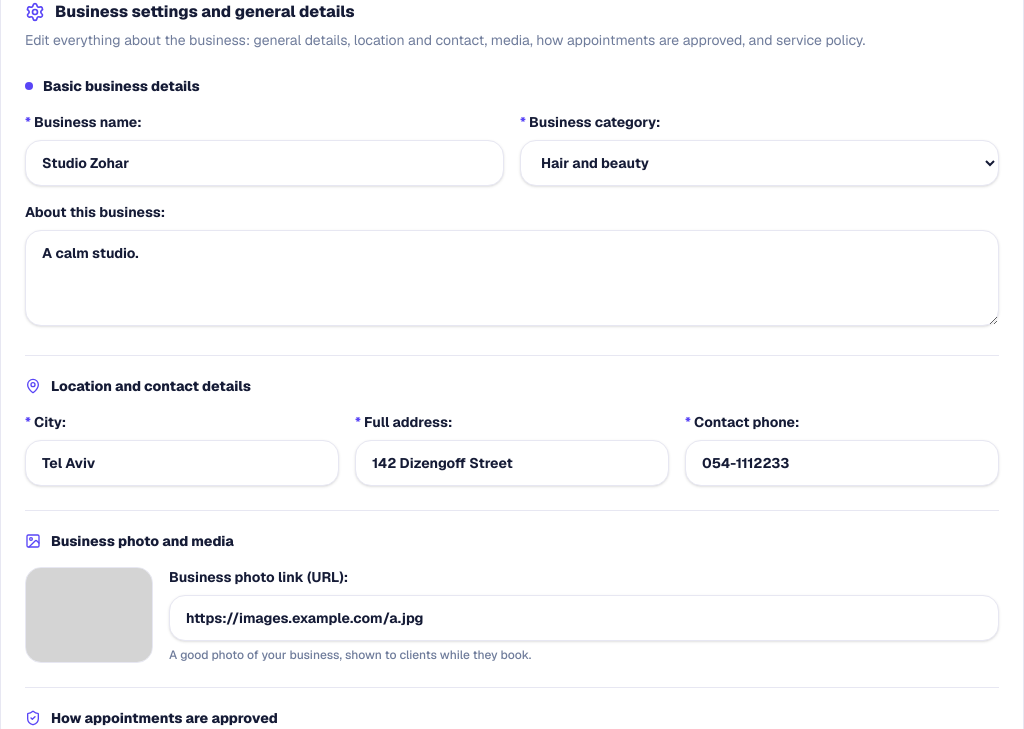
Test: business settings screen › saves every group as one row, including the photo and both free-text policies
Replace the text in the field showing "Studio Zohar" with "Studio Zohar & Co" at x=264, y=163, box [25, 140, 504, 186]
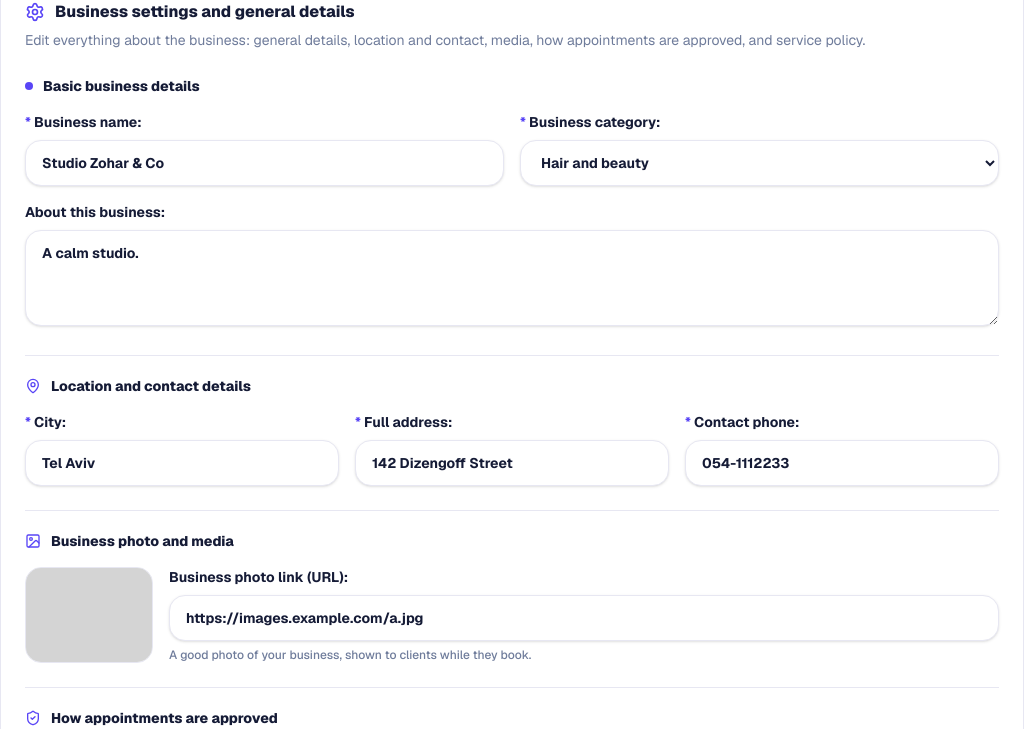
Replace the text in the field showing "https://images.example.com/a.jpg" with "https://images.example.com/b.jpg" at x=584, y=618, box [169, 595, 999, 641]
(page scrolled)
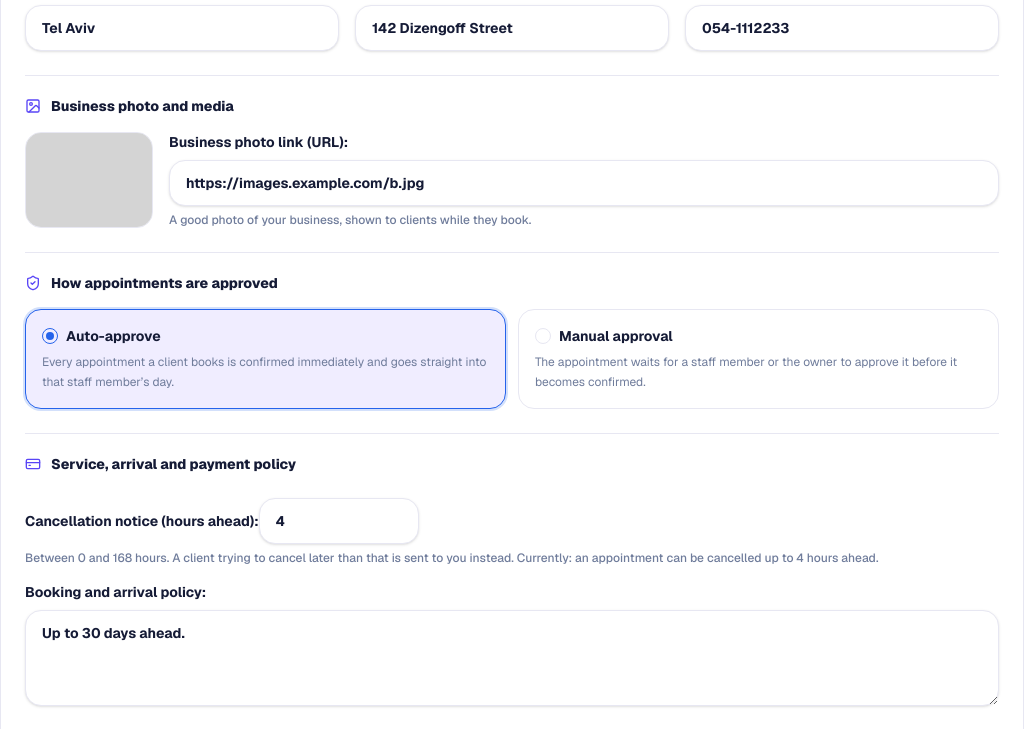
Click the button "Manual approval" at x=758, y=359, box [518, 309, 999, 409]
(page scrolled)
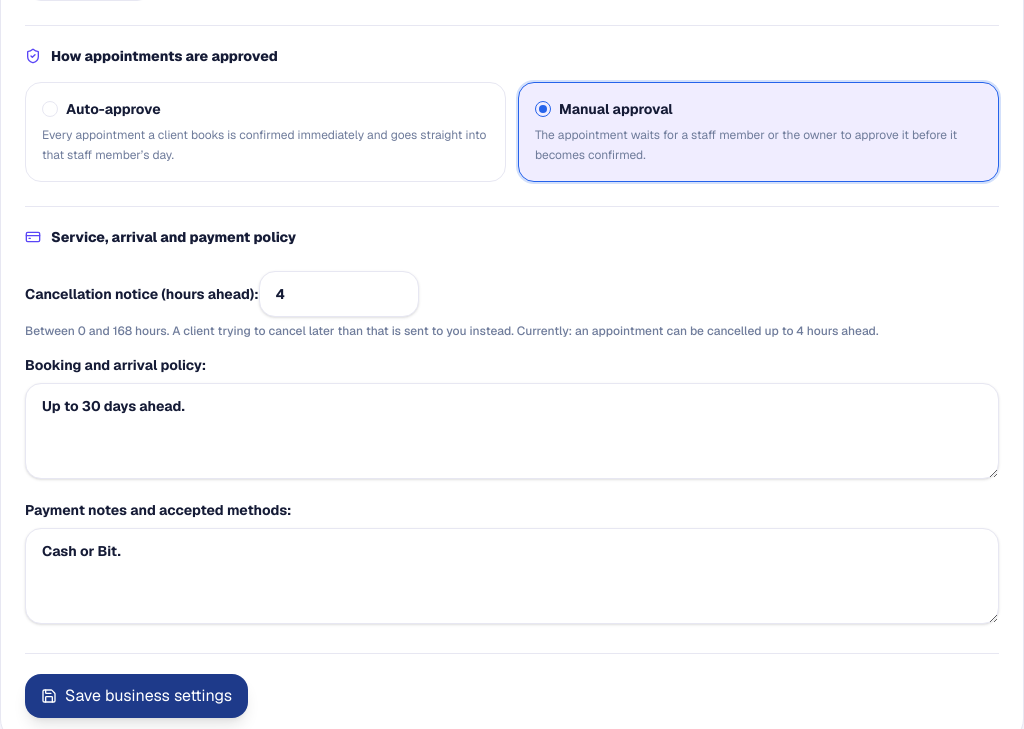
Click the button "Save business settings" at x=137, y=696, box [25, 674, 248, 718]
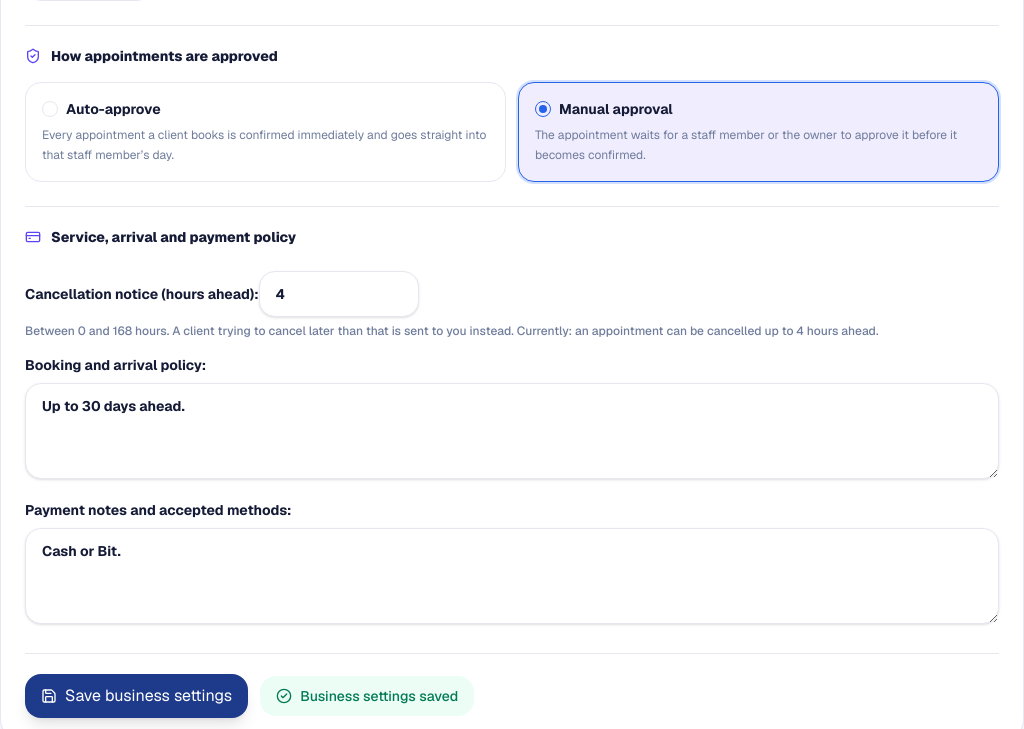
Result: the message reads "Business settings saved" at [300, 687, 458, 705]
